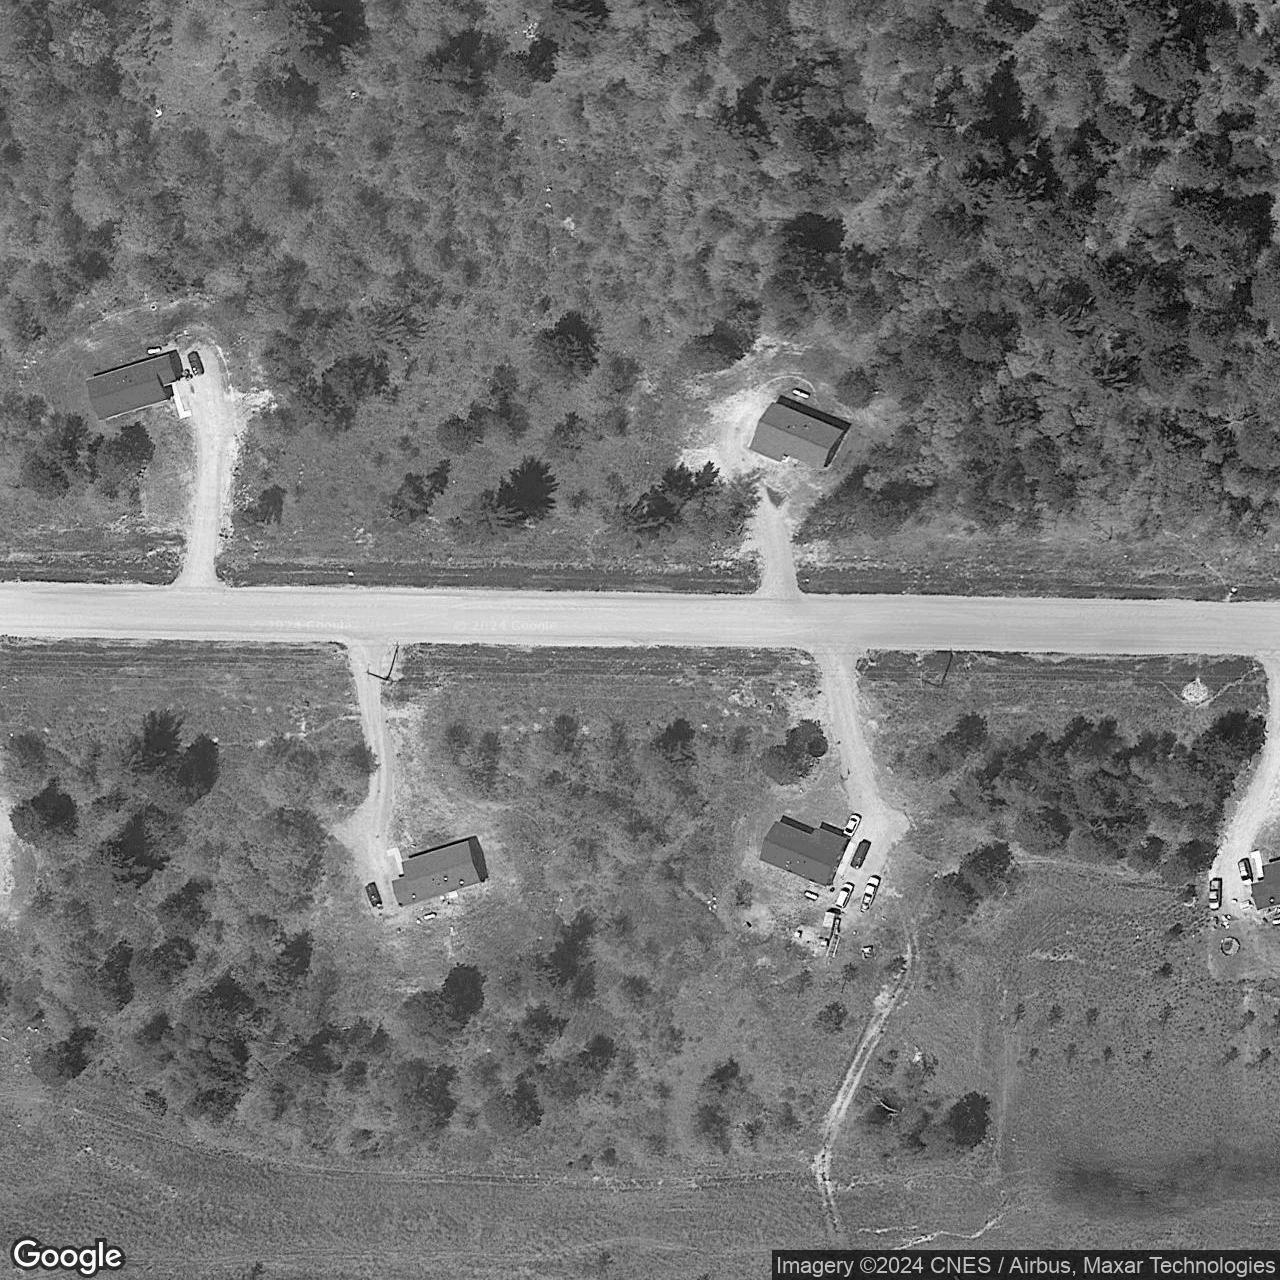House: (748, 401, 846, 471), (84, 352, 179, 423), (758, 819, 852, 887), (392, 839, 485, 907), (1250, 860, 1280, 912)
Propane: (788, 386, 811, 400), (802, 888, 819, 903), (145, 345, 164, 356), (422, 910, 440, 921), (1271, 915, 1280, 926)
